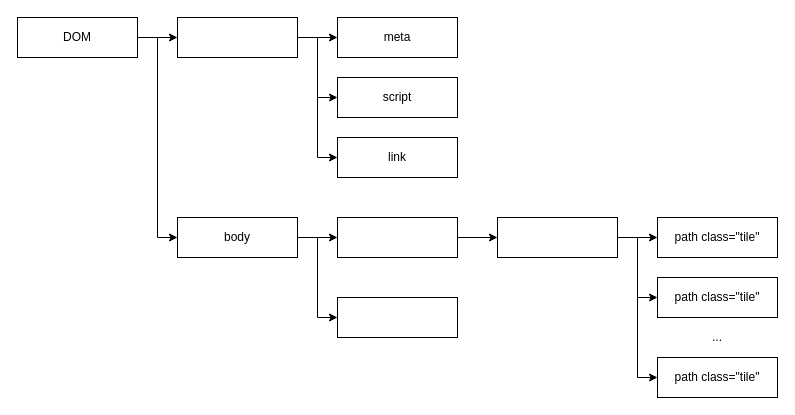
Image size: 795x415. Some labels were removed from this diagram. The box of each missing label's shape, as (x1, y1, x2, y2) in pixels:
div class="main": (336, 216, 458, 258)
div class="message" (динамическое): (336, 296, 458, 338)
html: (176, 16, 298, 58)
svg: (496, 216, 618, 258)
